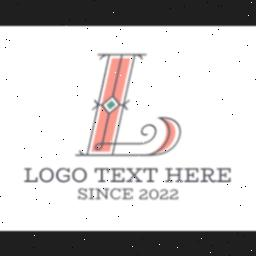e: (111, 166, 125, 182)
g: (55, 165, 71, 183)
h: (162, 164, 184, 184)
i: (88, 186, 94, 200)
l: (74, 42, 184, 162), (20, 162, 40, 184)
n: (96, 185, 110, 201)
o: (38, 164, 54, 182)
r: (199, 165, 217, 183)
s: (74, 186, 88, 200)
t: (90, 164, 110, 182)
x: (124, 164, 144, 182)
